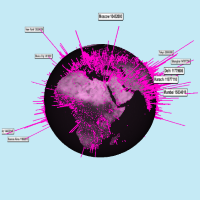

This screenshot's page, from the dashboard's own definition file:
{"tool":"powerbi","page":{"name":"Page 1","canvas":[960,720],"ordinal":0},"visuals":[{"type":"tableEx","fields":{"Values":["simplelatlong.city","simplelatlong.country","simplelatlong.lat","simplelatlong.lng","Sum(simplelatlong.pop)"]},"box":[472,0,488,720],"z":2},{"type":"threejsE0E480FFE18F46FE90AD2FA3A0D80C5F","fields":{"latitude":["simplelatlong.lat"],"longitude":["simplelatlong.lng"],"value":["simplelatlong.pop"],"name":["simplelatlong.city"]},"box":[16,144,448,448],"z":2}]}

Visuals, with their boxes on the page's 960x720 design canvas (x1, y1, x2, y2). These are canvas units, not pixel positions in the 200x200 screenshot, which may show the page scaled, cropped or inside an application window:
tableEx - simplelatlong.city x simplelatlong.country: box(472, 0, 960, 720)
threejsE0E480FFE18F46FE90AD2FA3A0D80C5F - simplelatlong.lat x simplelatlong.lng: box(16, 144, 464, 592)
